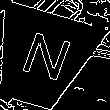N_S: (11, 29, 72, 89)
